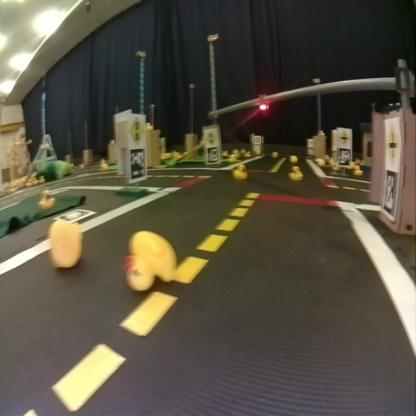Duckie: (126, 232, 176, 288), (49, 220, 82, 267), (38, 190, 54, 206), (232, 162, 248, 178), (288, 165, 302, 179), (352, 165, 360, 175)
Intersection sign: (386, 124, 400, 164), (339, 128, 351, 144)
QR code: (383, 169, 397, 216), (53, 208, 96, 222), (129, 146, 145, 178), (338, 148, 350, 164), (206, 146, 218, 162)
Signal sign: (130, 117, 144, 142), (206, 130, 216, 144)
Traffic light: (258, 94, 268, 112)
